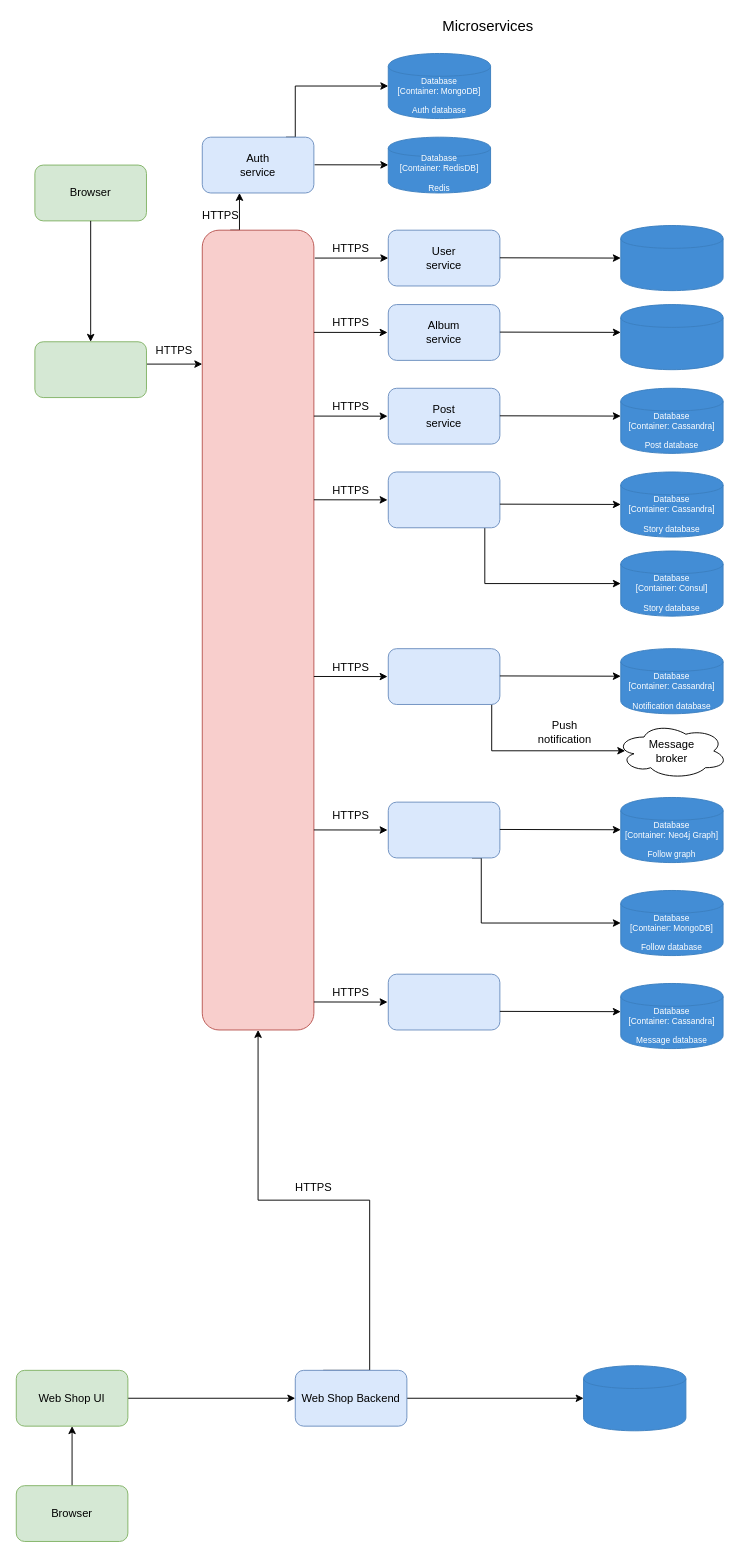
Image size: 744x1558. Some labels were removed from this diagram. Here are the shapes that lost their labels. From the top down, the box of each, then its label:
(620, 225, 723, 291): Database [Container: MongoDB] User database
(620, 304, 723, 370): Database [Container: Cassandra] Album database
(34, 341, 146, 398): Nishtagram UI
(387, 471, 500, 528): Story service
(201, 229, 314, 1030): API Gateway
(387, 648, 500, 704): Notification service
(387, 801, 500, 858): Follow service
(387, 973, 500, 1030): Message service
(583, 1365, 686, 1431): Database [Container: PostgreSQL] Web Shop Database
